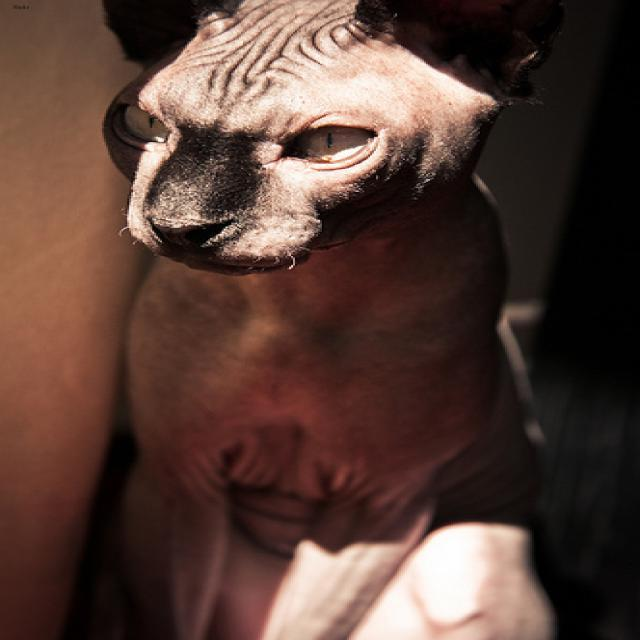Sphynx: (100, 0, 559, 275)
